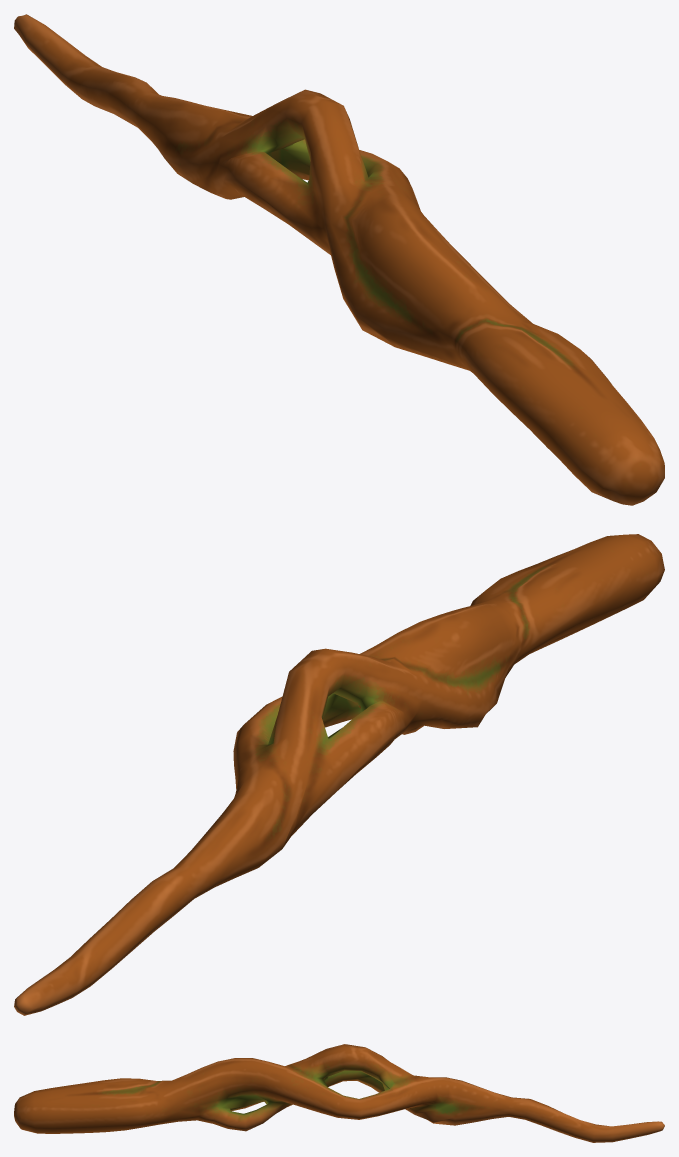
Rendered from kok_1.fbx.
3 renders of one model, top to bottom at view 1: azimuth 30°, elevation 25°; view 2: azimuth 150°, elevation 25°; view 3: azimuth 270°, elevation 25°, orthographic. The views are drawn at different scales.
Visible parts, largest first — view 1: Retopo_kok1; view 2: Retopo_kok1; view 3: Retopo_kok1.
Part boxes in pixels (x1=…): Retopo_kok1: x1=14, y1=14, x2=664, y2=505; Retopo_kok1: x1=14, y1=534, x2=664, y2=1015; Retopo_kok1: x1=14, y1=1044, x2=664, y2=1142.
Size of the model in its own units: 216 by 245 by 1566.
